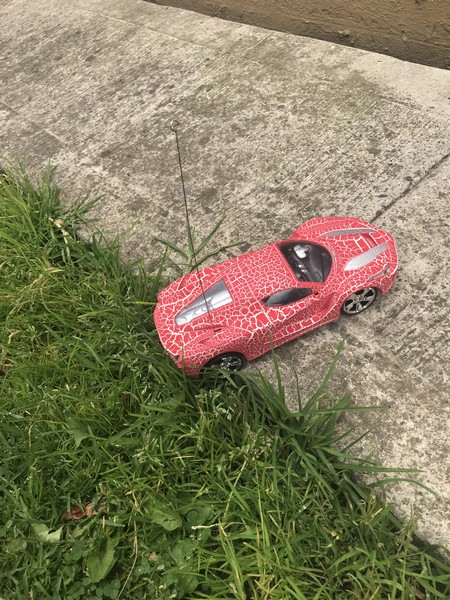RC: (150, 214, 399, 384)
